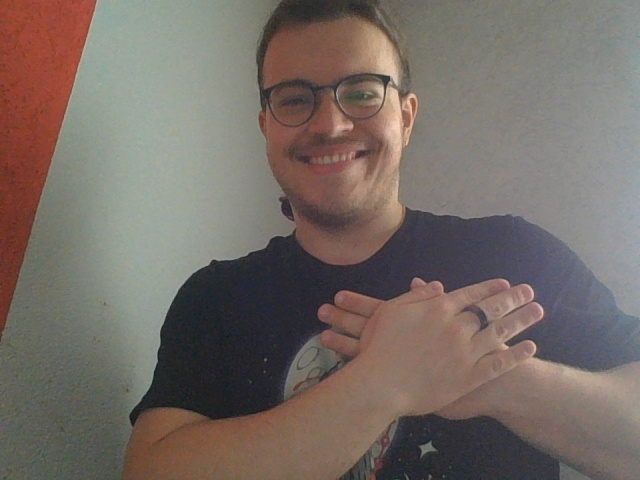Love: (315, 276, 559, 445)
